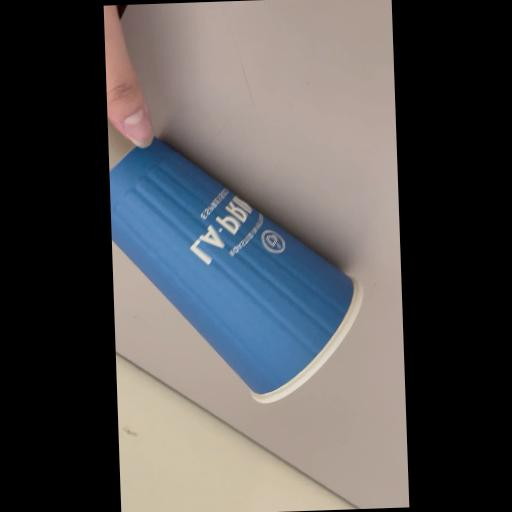lp_paper_cup: (108, 130, 366, 406)
